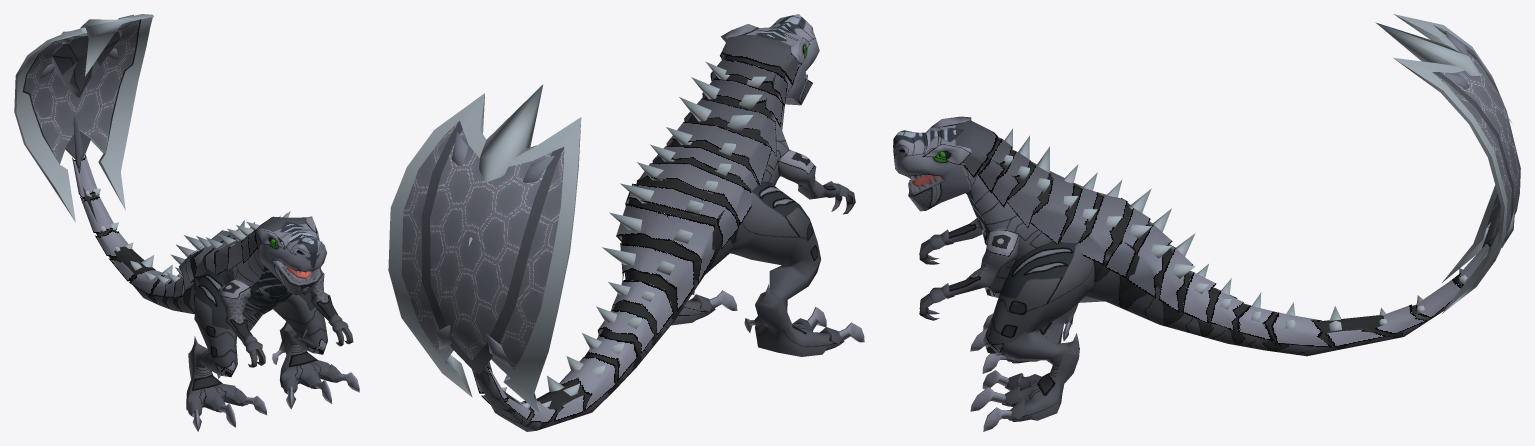
The model's file is titanium.glb.
3 views of the same model, side by side, from view 1: azimuth 30°, elevation 25°; view 2: azimuth 150°, elevation 25°; view 3: azimuth 270°, elevation 25° (orthographic). The views are drawn at different scales.
Parts seen in each view (by area): view 1: tail_tip-mesh, body, leg_bl-mesh, leg_br-mesh, head-mesh, leg_fr-mesh, tail-mesh, leg_fl-mesh, jaw-mesh; view 2: tail_tip-mesh, body, tail-mesh, leg_br-mesh, head-mesh, leg_bl-mesh, leg_fr-mesh; view 3: body, tail_tip-mesh, tail-mesh, leg_bl-mesh, head-mesh, leg_fl-mesh, leg_br-mesh, jaw-mesh, leg_fr-mesh.
Part boxes in pixels (box(x1,y1,x2,y2)): tail_tip-mesh: box(14, 14, 172, 304); body: box(185, 211, 325, 363); leg_bl-mesh: box(272, 321, 359, 409); leg_br-mesh: box(186, 336, 266, 431); head-mesh: box(255, 216, 326, 273); leg_fr-mesh: box(219, 275, 281, 368); tail-mesh: box(151, 220, 244, 314); leg_fl-mesh: box(271, 274, 353, 346); jaw-mesh: box(261, 262, 322, 295); tail_tip-mesh: box(388, 84, 619, 431); body: box(625, 38, 819, 274); tail-mesh: box(582, 183, 725, 388); leg_br-mesh: box(744, 243, 864, 356); head-mesh: box(720, 14, 819, 110); leg_bl-mesh: box(671, 290, 737, 325); leg_fr-mesh: box(798, 177, 855, 214); body: box(968, 120, 1139, 344); tail_tip-mesh: box(1265, 14, 1520, 356); tail-mesh: box(1110, 188, 1276, 350); leg_bl-mesh: box(970, 301, 1146, 431); head-mesh: box(893, 116, 988, 200); leg_fl-mesh: box(919, 196, 1004, 339); leg_br-mesh: box(970, 269, 1078, 373); jaw-mesh: box(908, 175, 968, 211); leg_fr-mesh: box(919, 218, 982, 264).
Bounding box in the file's own units: 1.51 × 2.5 × 3.96.
Materials: 1 (1 with a texture image).
